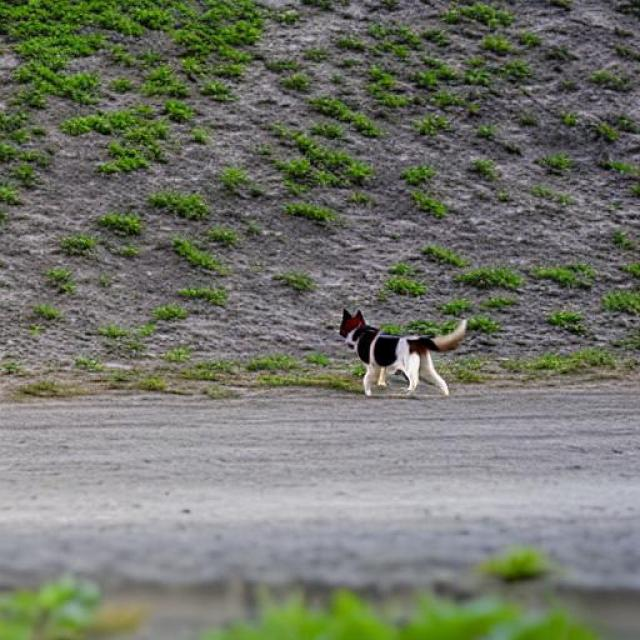Dog: (339, 308, 469, 398)
